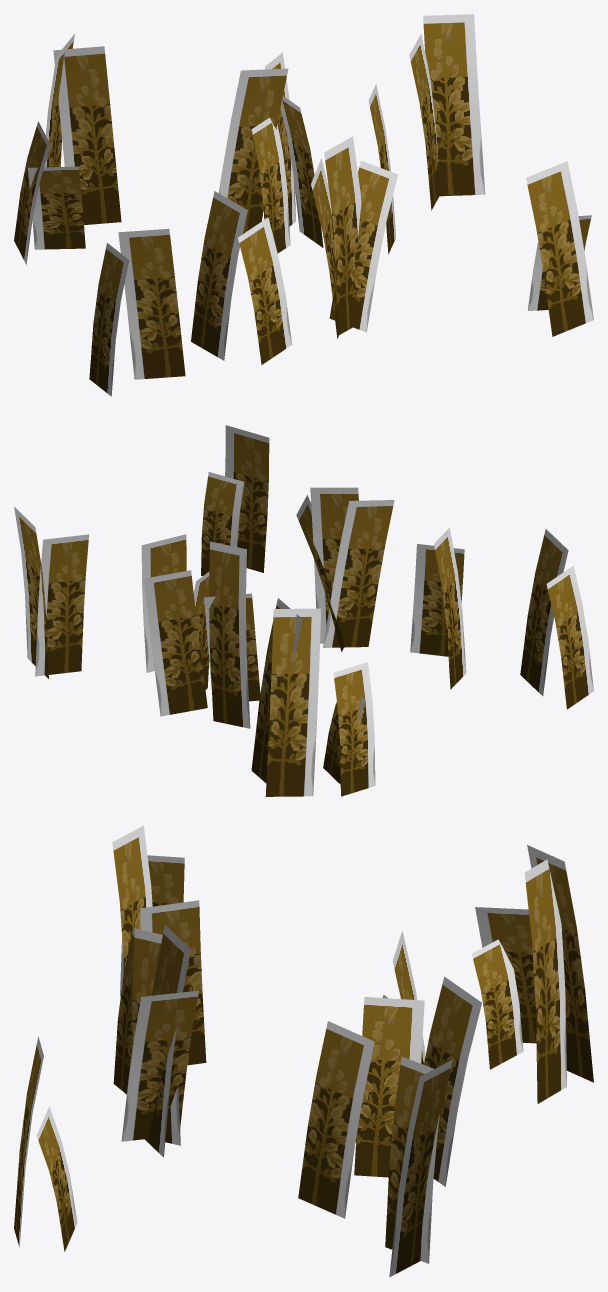
The model's file is FSF_Flower_002.FBX.
3 renders of one model, top to bottom at view 1: azimuth 30°, elevation 25°; view 2: azimuth 150°, elevation 25°; view 3: azimuth 270°, elevation 25°, orthographic. The views are drawn at different scales.
Visible parts, largest first — view 1: FSF_Flower_002; view 2: FSF_Flower_002; view 3: FSF_Flower_002.
Part boxes in pixels (<box>): FSF_Flower_002: <box>14,14,593,396</box>; FSF_Flower_002: <box>14,425,593,796</box>; FSF_Flower_002: <box>14,825,593,1277</box>.
Bounding box in the file's own units: 110 × 41.32 × 95.31.
